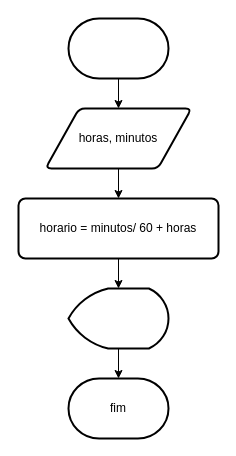
The diagram is 236 pixels wide and 456 high, and some of its shapes have lost their labels. Each missing label, with the centre of its shape:
horario: (x=118, y=318)
Inicio: (x=118, y=48)
